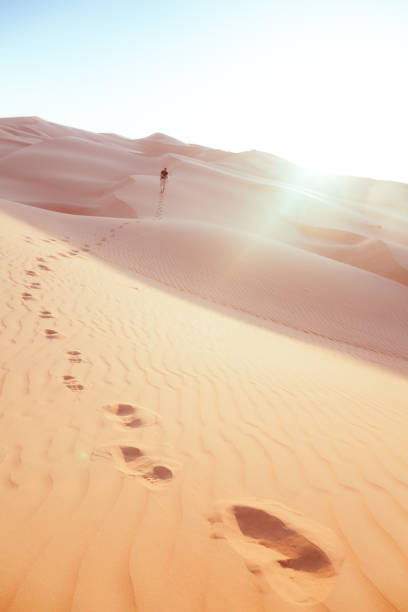human_footprint: (209, 499, 343, 605), (93, 440, 179, 488), (103, 402, 158, 428), (62, 375, 83, 390), (67, 350, 82, 362)
